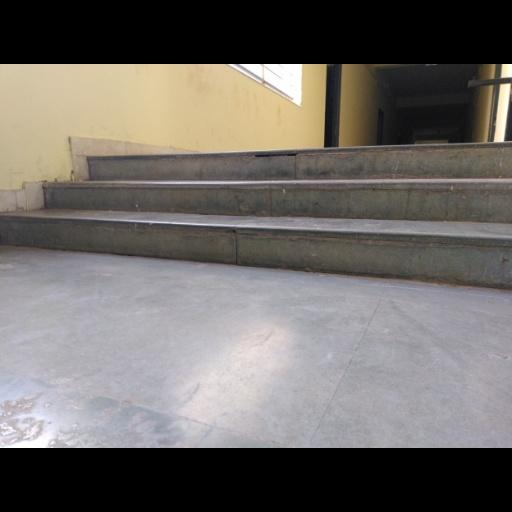stairs: (0, 143, 511, 288)
